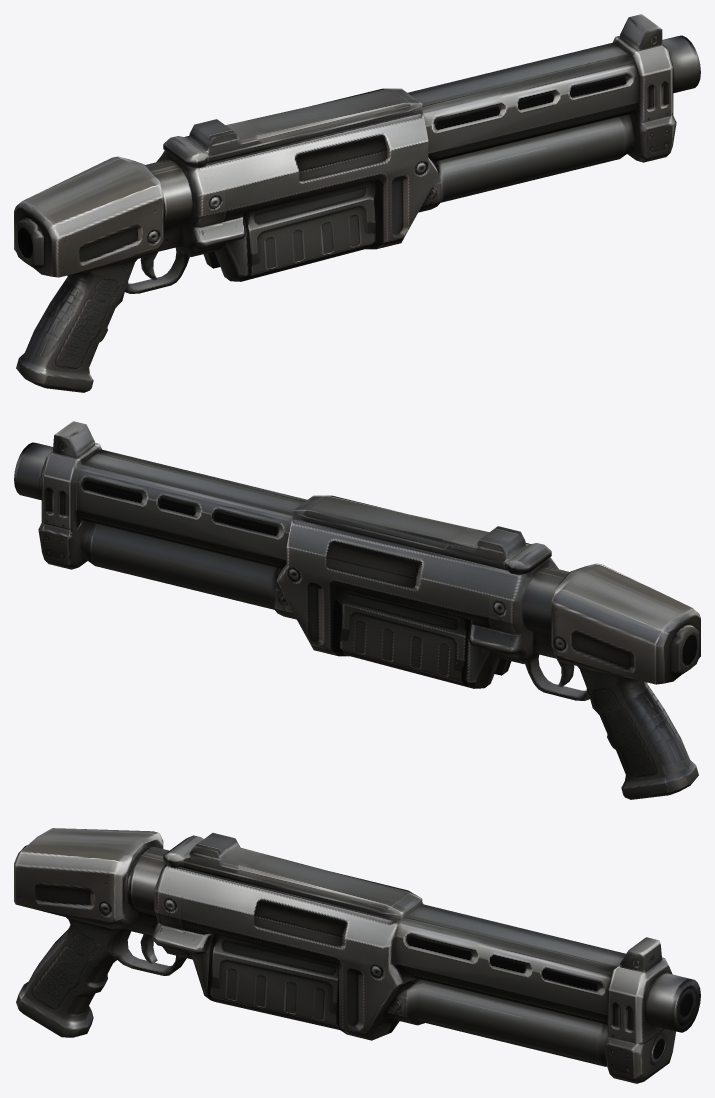
The model's file is shotgun.glb.
The picture shows the model from 3 angles, top to bottom: view 1: azimuth 30°, elevation 25°; view 2: azimuth 150°, elevation 25°; view 3: azimuth 330°, elevation 25°; orthographic projection.
Visible parts, largest first — view 1: tripo_node_bd5084cf-feca-4208-94f2-918752c29146; view 2: tripo_node_bd5084cf-feca-4208-94f2-918752c29146; view 3: tripo_node_bd5084cf-feca-4208-94f2-918752c29146.
Boxes of the visible parts, <box> form: tripo_node_bd5084cf-feca-4208-94f2-918752c29146: <box>14,14,700,392</box>; tripo_node_bd5084cf-feca-4208-94f2-918752c29146: <box>14,421,700,799</box>; tripo_node_bd5084cf-feca-4208-94f2-918752c29146: <box>14,828,700,1083</box>.
Size of the model in its own units: 0.9995 by 0.3247 by 0.1265.
Materials: 1 (1 with a texture image).
